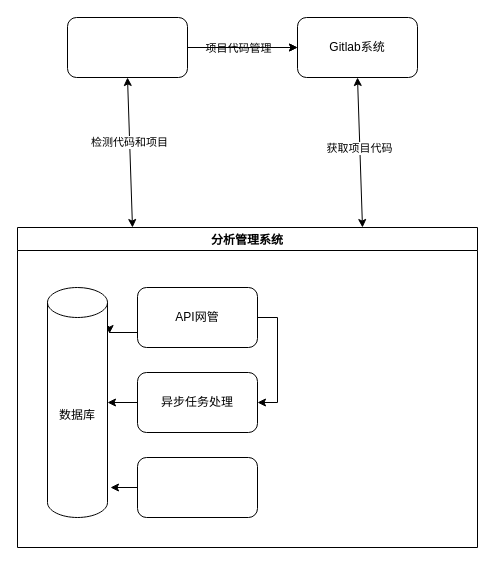
Some shapes in this 495 by 565 pixel diagram are drawn without their labels. The shapes that lost their labels are listed below. From the top down, each one's centre as x and y in pixels, then its label:
At point (127, 47): "用户方".
At point (197, 487): "定时任务处理".
